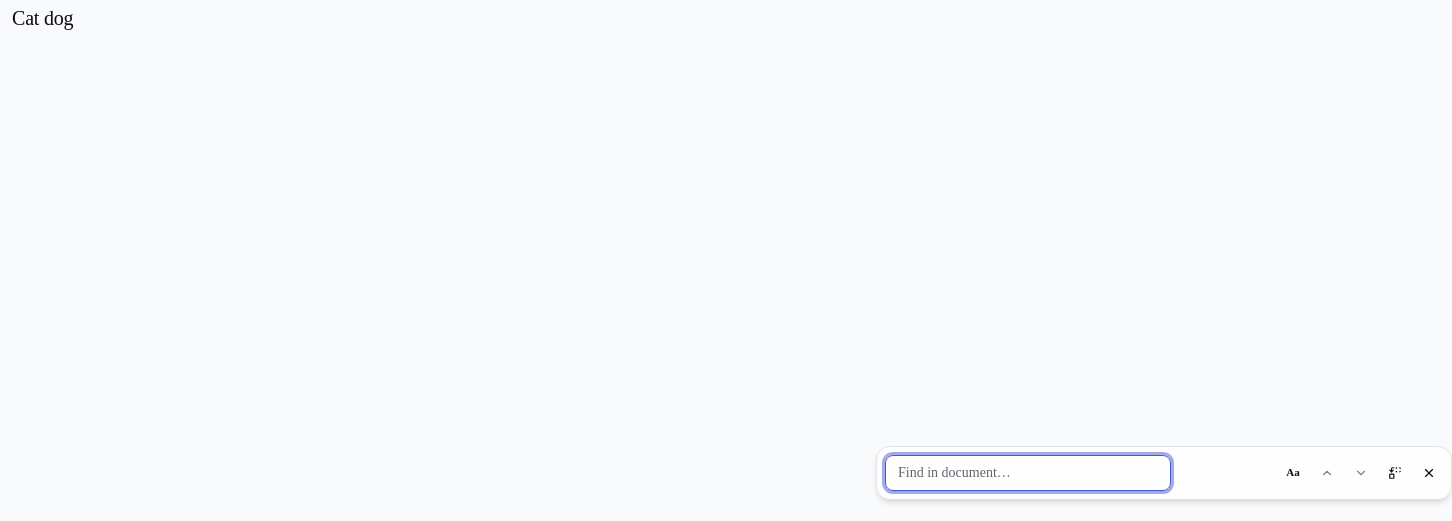
Test: navigation › toggles match case and re-counts
Expected: the element named "find and replace" is shown, [876, 446, 1451, 500]
Type "cat" into the field with placeholder "Find in document…" at x=1028, y=472, box [885, 454, 1171, 490]
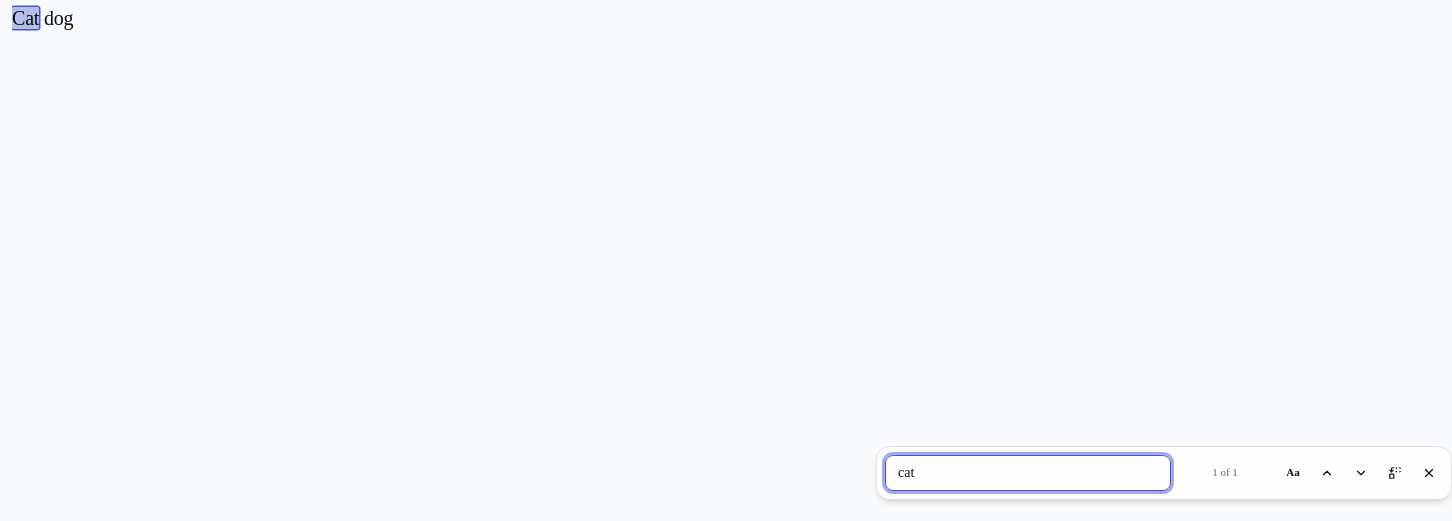
Result: the text "1 of 1" is shown at [1212, 466, 1238, 478]
Click the button with aria-label "Match case" at x=1293, y=472, box [1279, 458, 1307, 486]
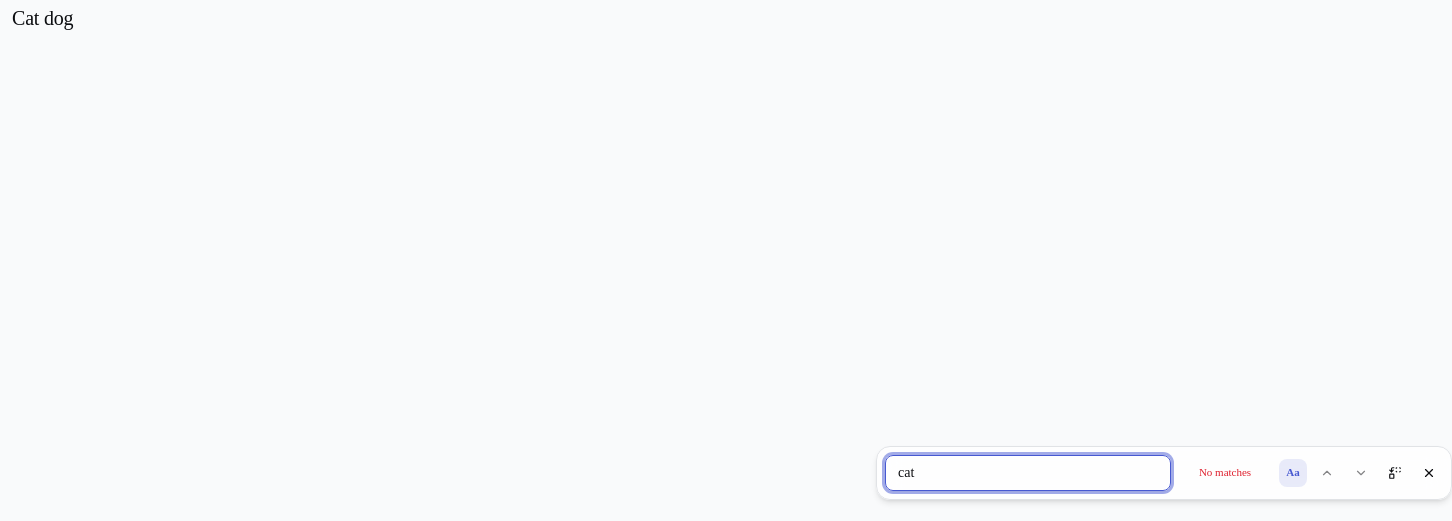
Result: the text "No matches" is shown at [1199, 466, 1251, 478]
